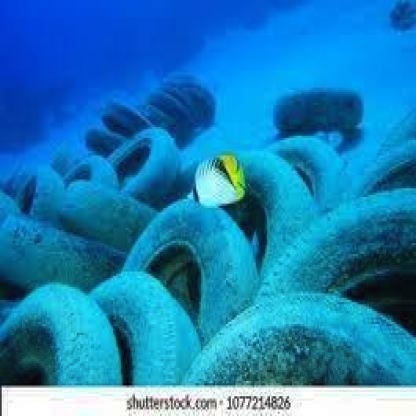tire: (183, 284, 416, 383), (246, 184, 416, 311), (118, 195, 263, 341), (83, 258, 201, 386), (194, 149, 318, 256), (20, 129, 178, 210), (5, 283, 124, 383), (1, 206, 118, 287), (91, 72, 217, 138), (265, 70, 372, 134), (266, 125, 349, 199), (61, 184, 149, 247), (362, 107, 416, 192)
